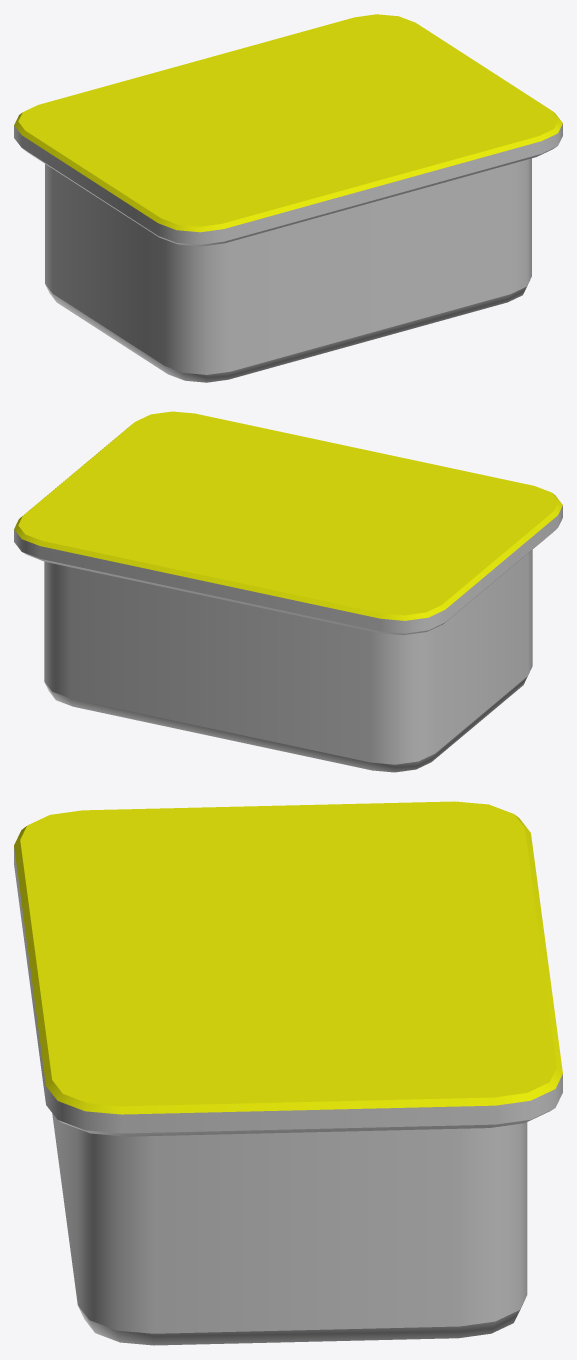
The model's file is Fridgerer_Lasagne_Box.glb.
3 renders of one model, top to bottom at view 1: azimuth 30°, elevation 25°; view 2: azimuth 150°, elevation 25°; view 3: azimuth 270°, elevation 25°, orthographic. The views are drawn at different scales.
Parts seen in each view (by area): view 1: Lasagne; view 2: Lasagne; view 3: Lasagne.
Boxes of the visible parts, left/top/right/bottom form: Lasagne: left=14, top=14, right=562, bottom=382; Lasagne: left=14, top=411, right=562, bottom=772; Lasagne: left=14, top=801, right=562, bottom=1345.
Size of the model in its own units: 0.2095 by 0.082 by 0.1568.
